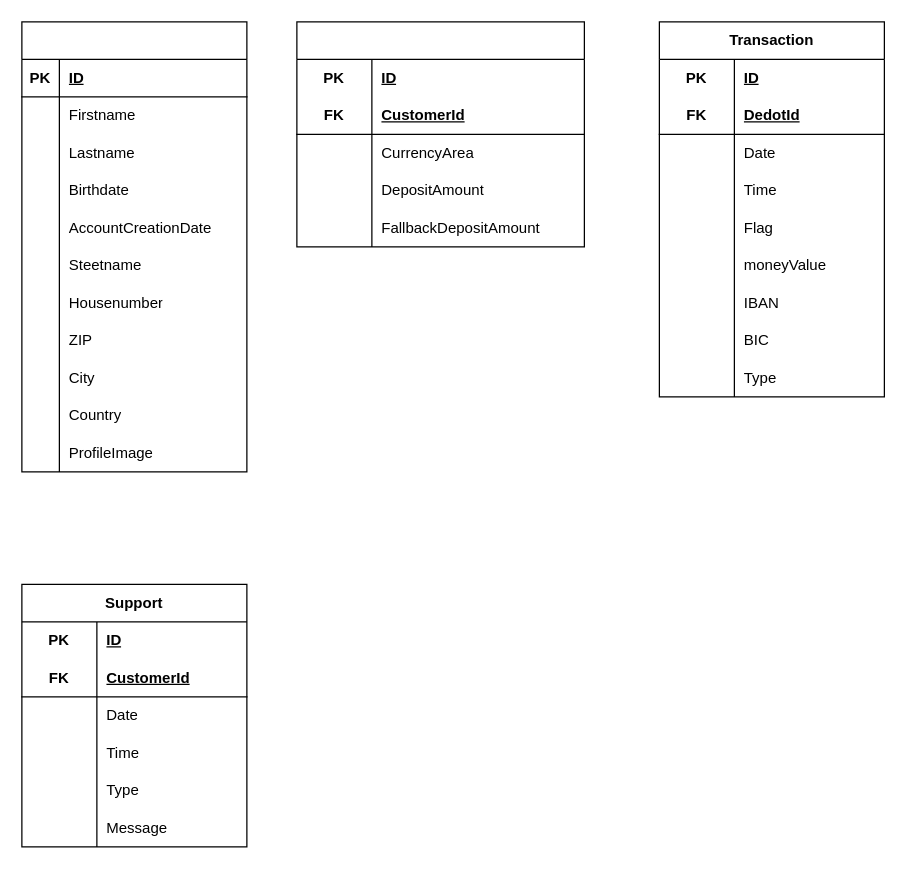
Image size: 906x869. Some labels were removed from this diagram. Here are the shapes that lost their labels. From the top down, the box of each, then its label:
(296, 21, 584, 247): Depot
(21, 21, 247, 472): Customer Information
